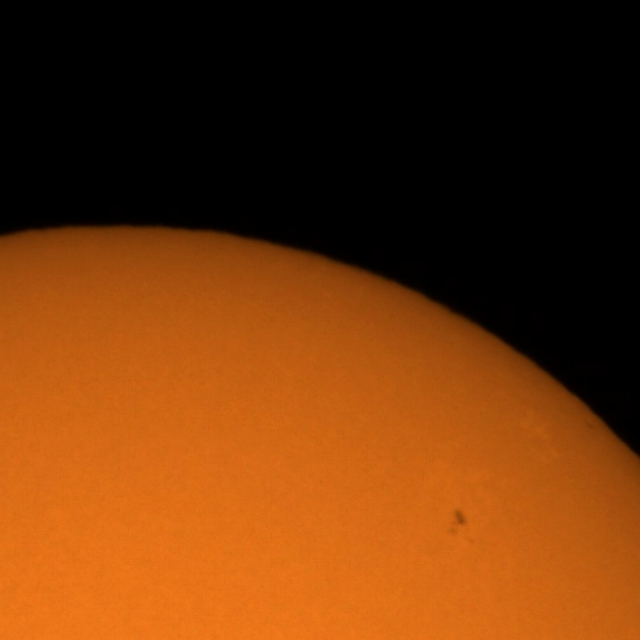sunspot: (448, 508, 468, 538)
